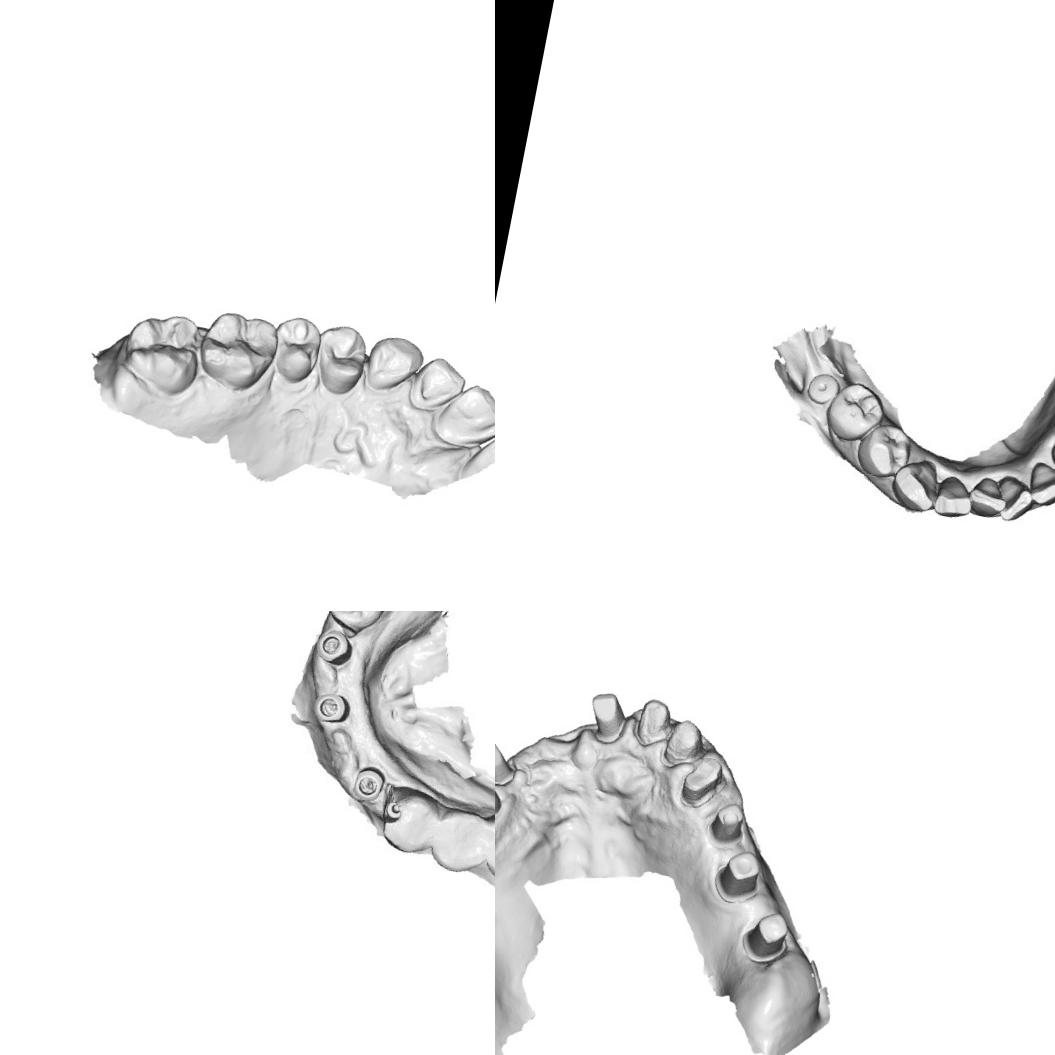abutment: (736, 904, 795, 970), (708, 844, 766, 909), (582, 688, 630, 746), (702, 796, 749, 853), (495, 735, 521, 789)
canine: (362, 328, 426, 400), (886, 462, 940, 518)
crown: (674, 750, 732, 813), (657, 714, 711, 771), (627, 694, 677, 750)
implant: (346, 758, 390, 807), (315, 623, 357, 666), (804, 358, 839, 407), (314, 690, 348, 727)
incisor: (425, 374, 495, 457), (407, 350, 472, 416), (996, 473, 1036, 517), (939, 475, 975, 521), (970, 473, 1006, 515), (1028, 466, 1055, 503)
molar: (114, 302, 210, 402), (193, 304, 284, 400), (424, 803, 495, 879)
premolar: (374, 781, 442, 860), (308, 320, 373, 400), (265, 311, 328, 388), (825, 379, 882, 441), (852, 419, 910, 479), (321, 611, 389, 636)
